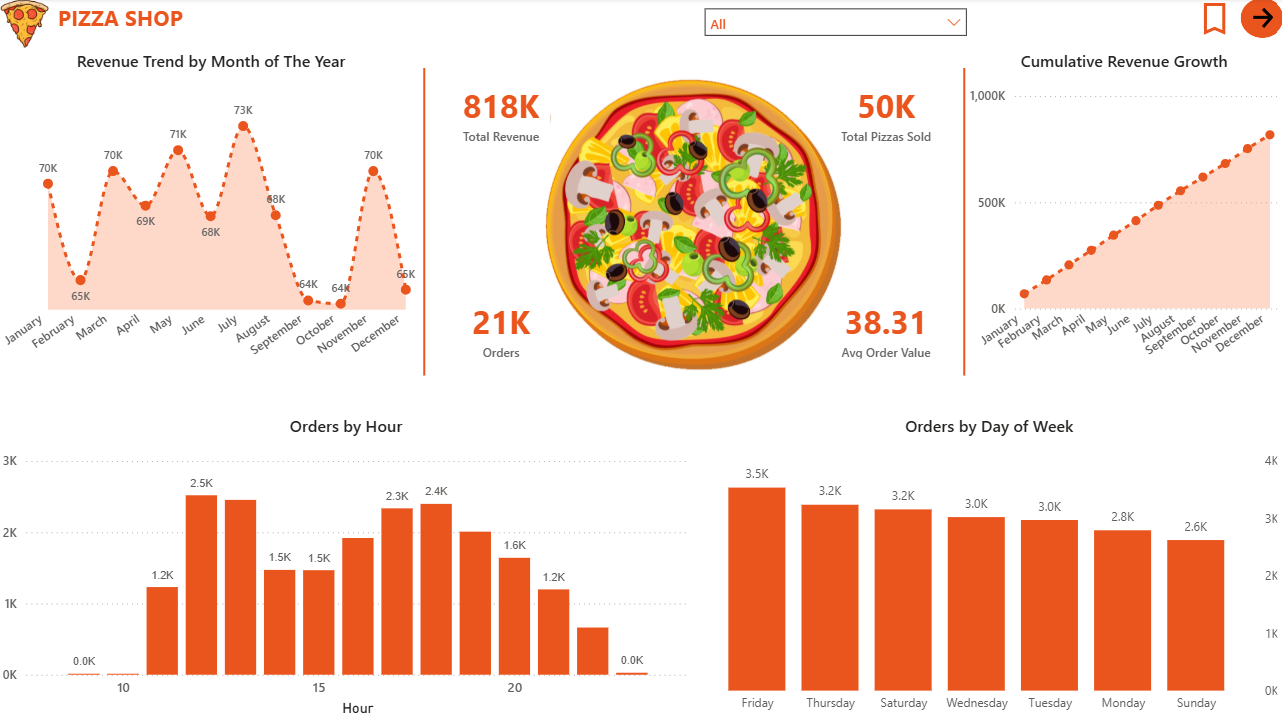

Layout of this report page (visuals, bound fields, positions):
{"tool":"powerbi","page":{"name":"OVERVIEW","canvas":[1280,720],"ordinal":0},"visuals":[{"type":"textbox","box":[15.7,0,211.4,51.4],"z":0},{"type":"image","box":[0,0,52.9,51.4],"z":1000},{"type":"lineChart","title":"Revenue Trend by Month of The Year","fields":{"Y":["order_details.Total Revenue"],"Category":["orders.date.Variation.Date Hierarchy.Month"]},"box":[0,50.8,424,325.2],"z":2000},{"type":"cardVisual","fields":{"Data":["order_details.Total Orders"]},"box":[424,285.4,153.7,91.9],"z":2000,"group":"g1"},{"type":"clusteredColumnChart","title":"Orders by Hour","fields":{"Category":["orders.Hour"],"Y":["order_details.Total Orders"]},"box":[0,414.8,692.7,305],"z":3000},{"type":"cardVisual","fields":{"Data":["order_details.Total Revenue"]},"box":[424,70,153.7,91.9],"z":4000,"group":"g1"},{"type":"clusteredColumnChart","title":"Orders by Day of Week","fields":{"Category":["orders.Day Name"],"Y":["order_details.Total Orders"]},"box":[692.7,414.8,587.3,305],"z":4000},{"type":"slicer","fields":{"Values":["orders.date.Variation.Date Hierarchy.Month","orders.date.Variation.Date Hierarchy.Day"]},"box":[692.9,0,281.1,51],"z":5000},{"type":"cardVisual","fields":{"Data":["order_details.Total Pizzas Sold"]},"box":[806.8,70,153.7,91.9],"z":5000,"group":"g1"},{"type":"areaChart","title":"Cumulative Revenue Growth","fields":{"Category":["orders.Month"],"Y":["orders.Cumulative Revenue"]},"box":[961.7,51.1,318.3,325.1],"z":6000},{"type":"cardVisual","fields":{"Data":["order_details.Avg Order Value"]},"box":[806.8,285.4,153.7,91.9],"z":6000,"group":"g1"},{"type":"group","id":"g1","title":"Group 1","box":[424,70,536.5,307.4],"z":7000},{"type":"image","box":[500.8,70,382.8,307.4],"z":7000,"group":"g1"},{"type":"shape","box":[838.4,69.7,246.3,306],"z":8000},{"type":"shape","box":[301,69.7,246.3,306],"z":9000},{"type":"shape","box":[1236.5,0,43.5,39.8],"z":10000,"group":"g2"},{"type":"actionButton","box":[1244,0,28.6,39.8],"z":11000,"group":"g2"},{"type":"group","id":"g2","title":"Group 2","box":[1236.5,0,43.5,39.8],"z":11001},{"type":"actionButton","box":[1185.5,0,51,41.1],"z":11002}]}

Visuals, with their boxes in screenshot pixels (x1, y1, x2, y2), scaled from the page's 1280x720 canvas onto the 1282x720 screenshot:
textbox: BBox(16, 0, 227, 51)
image: BBox(0, 0, 53, 51)
"Revenue Trend by Month of The Year" lineChart: BBox(0, 51, 425, 376)
cardVisual - order_details.Total Orders: BBox(425, 285, 579, 377)
"Orders by Hour" clusteredColumnChart: BBox(0, 415, 694, 719)
cardVisual - order_details.Total Revenue: BBox(425, 70, 579, 162)
"Orders by Day of Week" clusteredColumnChart: BBox(694, 415, 1281, 719)
slicer - orders.date.Variation.Date Hierarchy.Month x orders.date.Variation.Date Hierarchy.Day: BBox(694, 0, 976, 51)
cardVisual - order_details.Total Pizzas Sold: BBox(808, 70, 962, 162)
"Cumulative Revenue Growth" areaChart: BBox(963, 51, 1281, 376)
cardVisual - order_details.Avg Order Value: BBox(808, 285, 962, 377)
"Group 1" group: BBox(425, 70, 962, 377)
image: BBox(502, 70, 885, 377)
shape: BBox(840, 70, 1086, 376)
shape: BBox(301, 70, 548, 376)
shape: BBox(1238, 0, 1281, 40)
actionButton: BBox(1246, 0, 1275, 40)
"Group 2" group: BBox(1238, 0, 1281, 40)
actionButton: BBox(1187, 0, 1238, 41)
